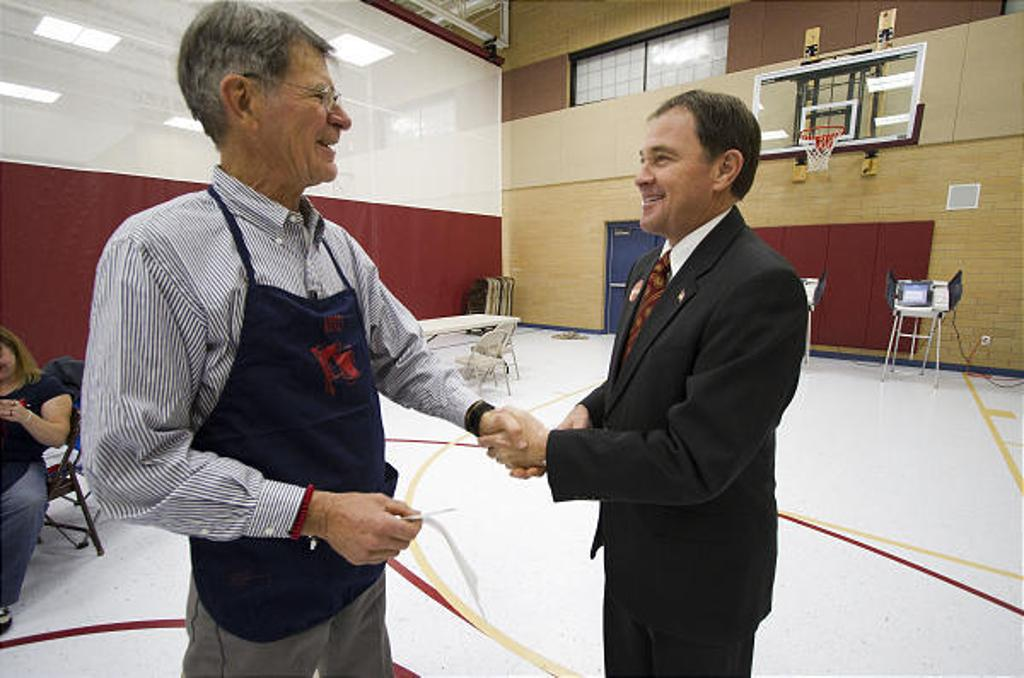face: (266, 24, 352, 182), (638, 106, 716, 232)
